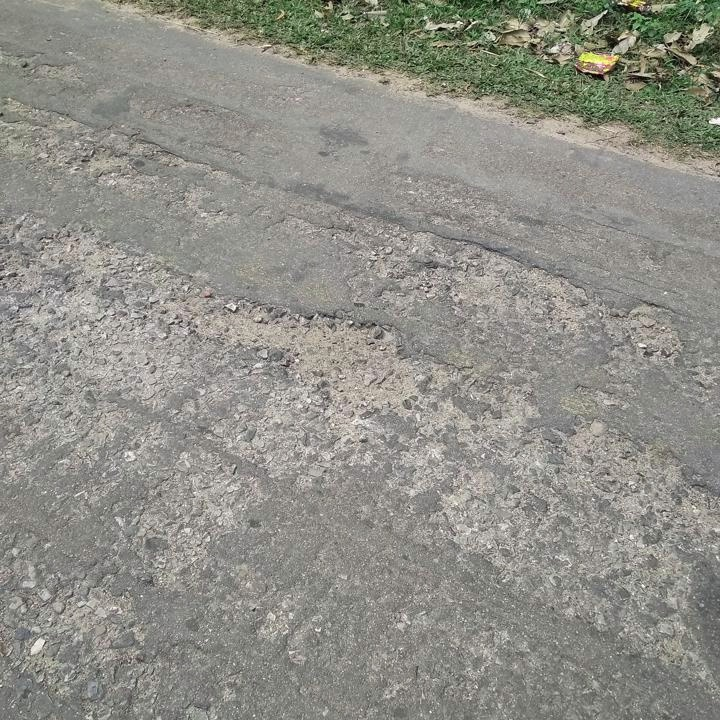pothole: (184, 294, 424, 401), (395, 230, 596, 324), (617, 301, 682, 365)
